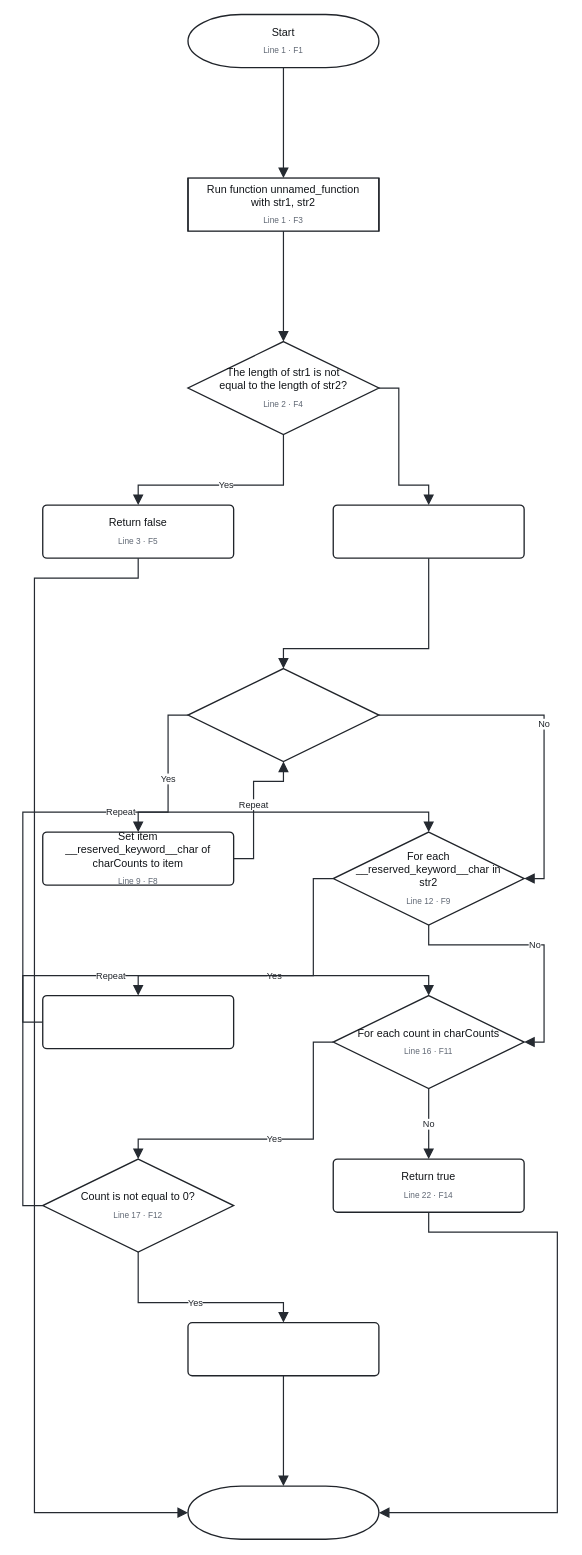
This 582x1555 diagram has some shape labels left out. The centre of each missing label's shape, as x and y in pixels:
End Line 1 · F2: point (283, 1512)
For each __reserved_keyword__char in str1 Line 8 · F7: point (283, 714)
Return false Line 18 · F13: point (283, 1349)
Set charCounts to an empty dictionary Line 6 · F6: point (428, 531)
Set item __reserved_keyword__char of charCounts to item Line 13 · F10: point (138, 1022)
